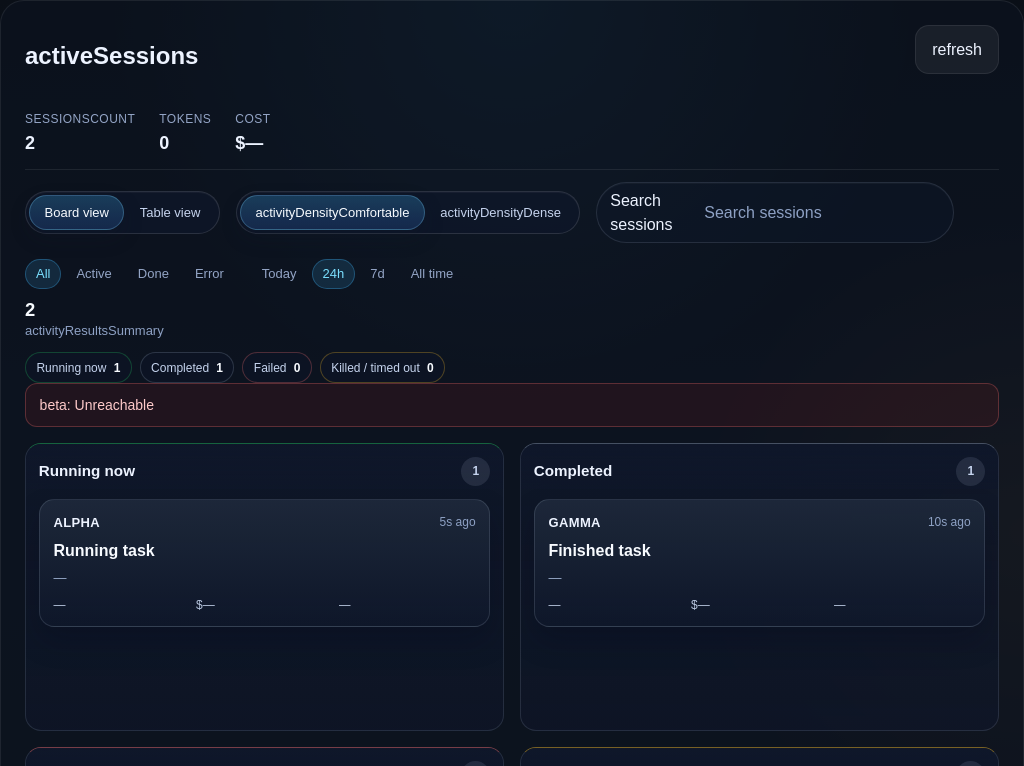
Test: FleetSessionsPanel › switches to table mode and preserves the existing table view
The width and height of the screenshot is (1024, 766).
Step 1. Click the button "Table view" → (170, 213), box [124, 196, 216, 230]
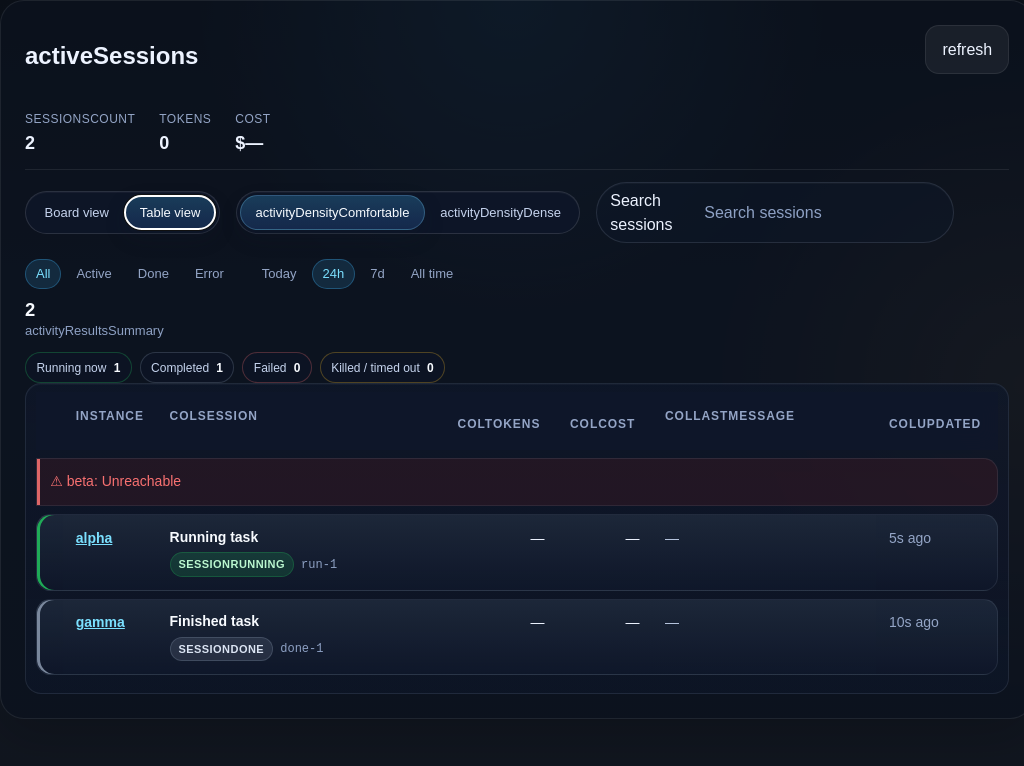
Check: the table is shown, box [26, 384, 1008, 693]
Check: the column heading "Instance" is shown, box [63, 392, 157, 450]
